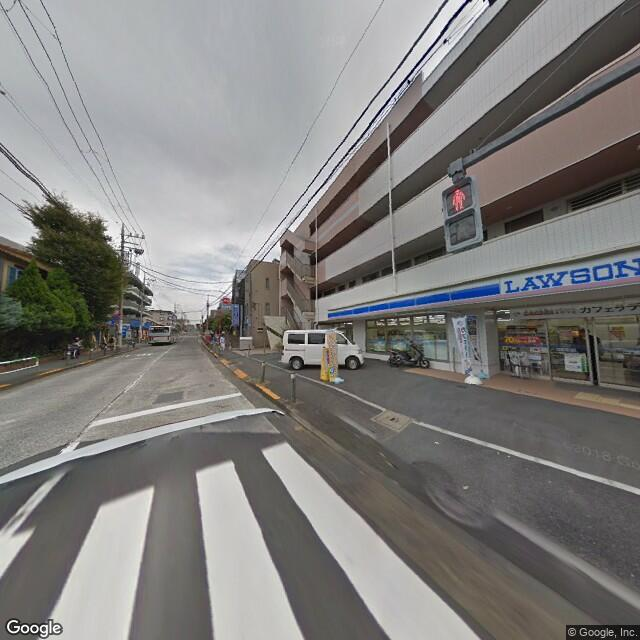lawson: (325, 245, 638, 322)
